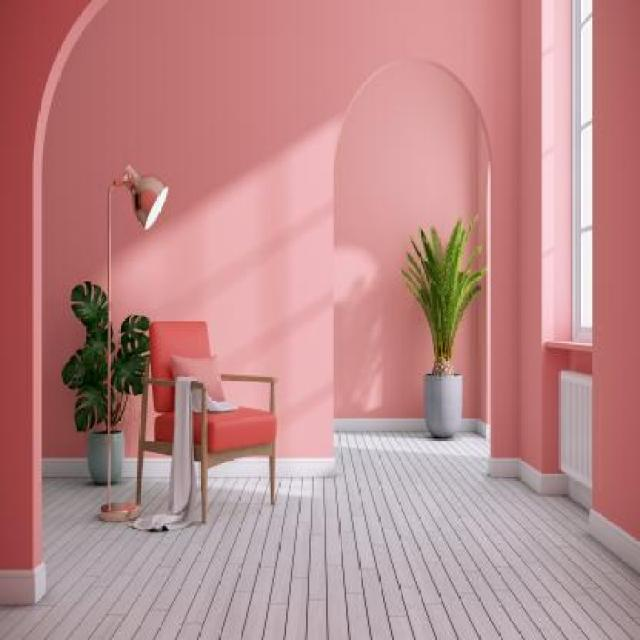Floor: (0, 431, 640, 640), (110, 477, 137, 503)
